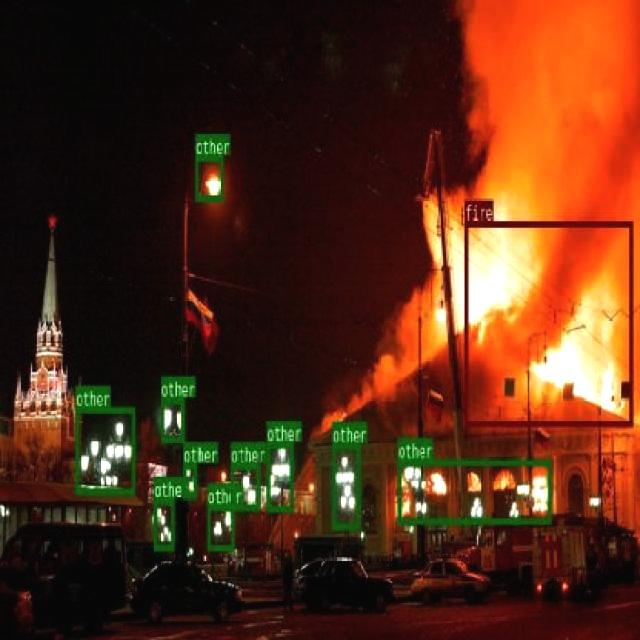fire: (464, 220, 632, 425)
